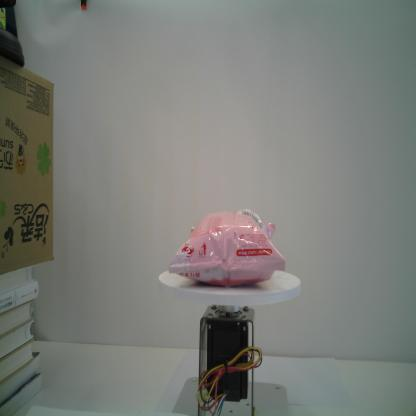Puffed Food: (166, 205, 288, 290)
